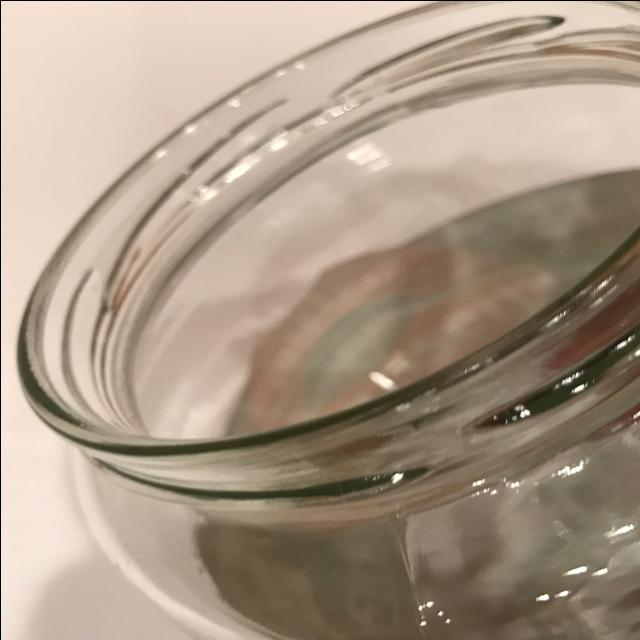glass: (10, 0, 632, 640)
